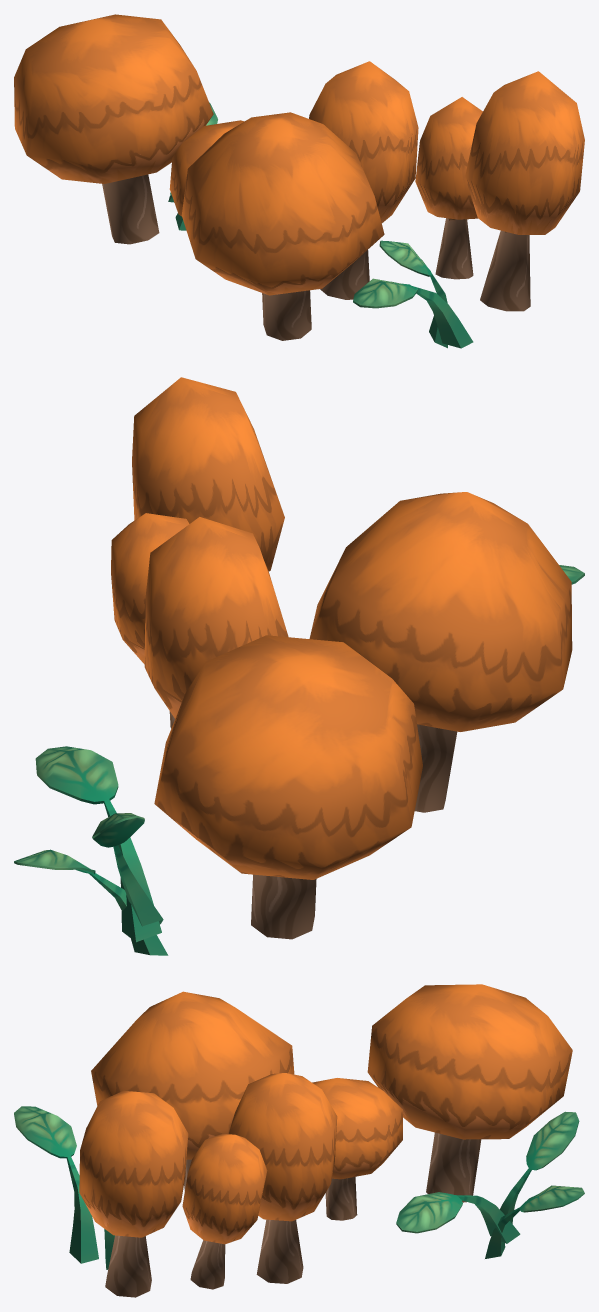
File: Nature_06.fbx
3 views of the same model, one above another, from view 1: azimuth 30°, elevation 25°; view 2: azimuth 150°, elevation 25°; view 3: azimuth 270°, elevation 25° (orthographic). The views are drawn at different scales.
Visible parts, largest first — view 1: Nature_06; view 2: Nature_06; view 3: Nature_06.
Part boxes in pixels (x1,y1,x2,y2): Nature_06: (14, 14, 584, 348); Nature_06: (14, 377, 584, 955); Nature_06: (14, 984, 584, 1297).
Size of the model in its own units: 57.12 by 37.27 by 79.61.
